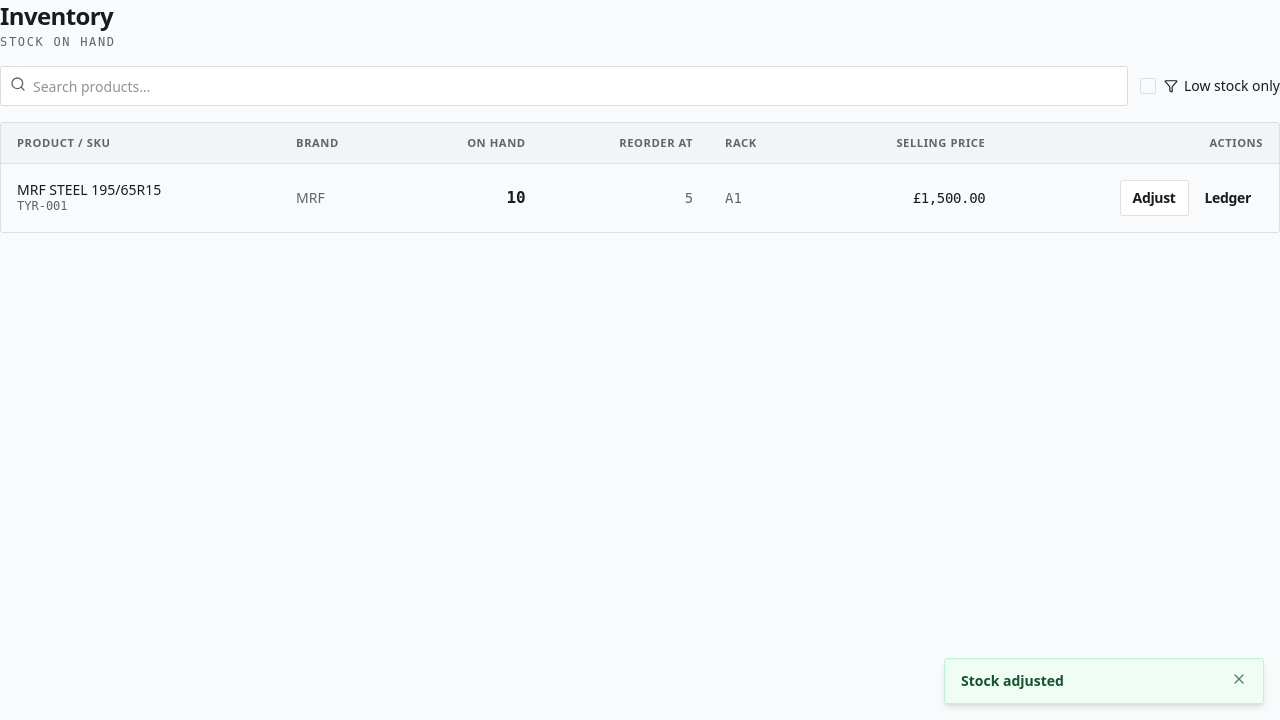
Test: InventoryListPage › opens ledger drawer and renders movements
The image size is (1280, 720).
Click the button with aria-label "view movements for TYR-001" at (1228, 198), box [1192,180,1263,216]
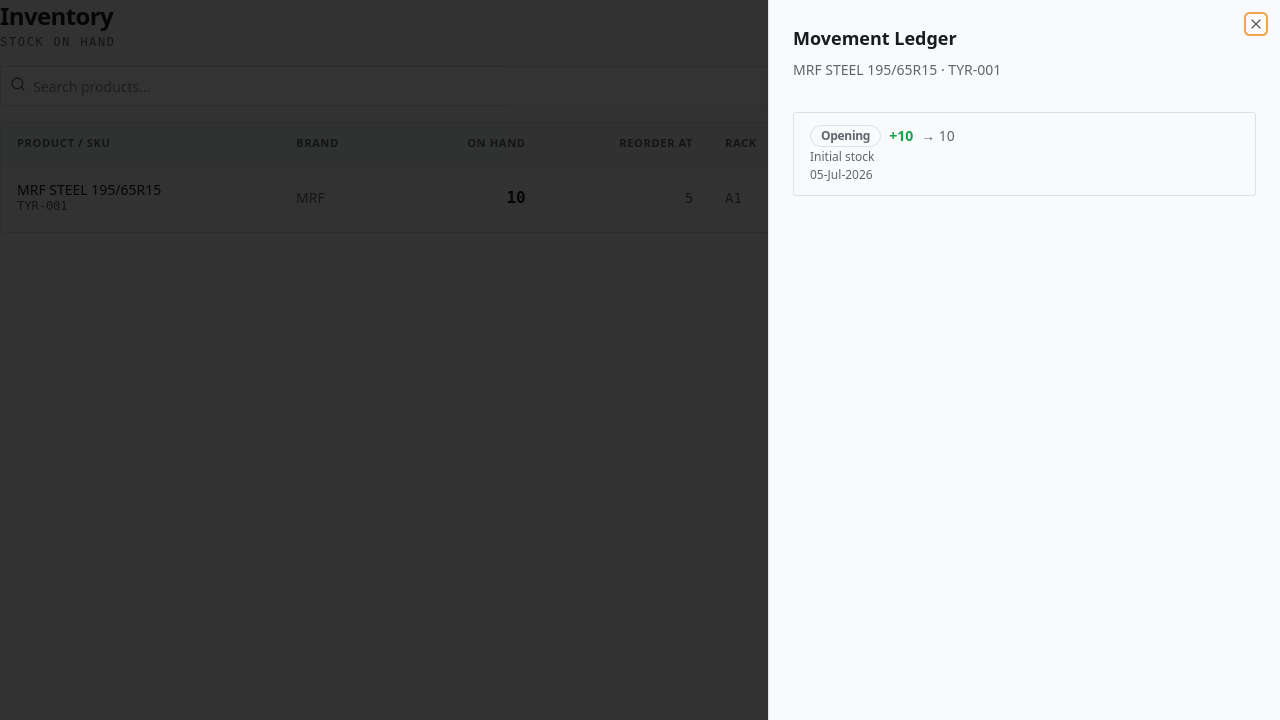
Check: the heading "Movement Ledger" is shown, box [793,26,957,50]
Check: the text "Initial stock" is shown, box [810,148,874,165]
